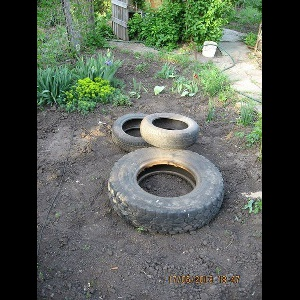tire: (107, 147, 225, 234), (111, 113, 173, 152), (140, 112, 199, 149)
